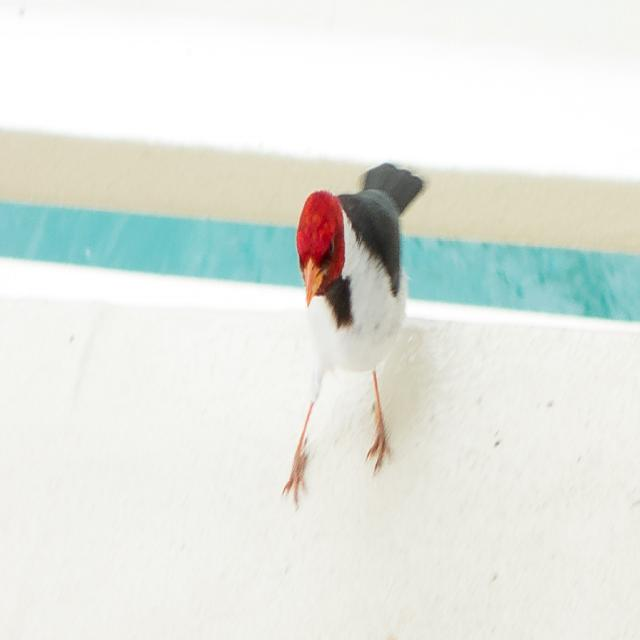Chicken: (294, 165, 412, 513)
